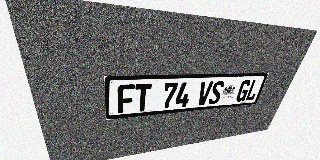4: (175, 82, 192, 108)
7: (161, 83, 178, 109)
F: (117, 84, 135, 113)
G: (235, 80, 252, 102)
L: (244, 79, 262, 101)
S: (208, 81, 225, 105)
T: (134, 83, 152, 112)
V: (196, 81, 214, 106)
